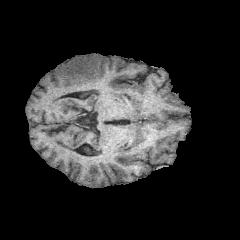glioma: (52, 54, 104, 86)
